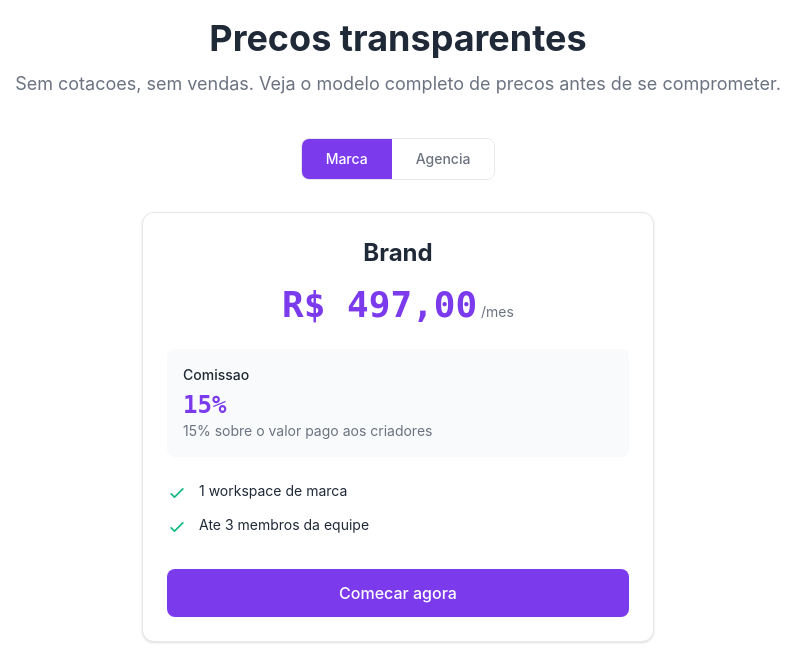
Test: PricingPage - US-02 Transparent Pricing › should show both workspace types with distinct pricing when toggled
Expected: the heading "Precos transparentes" is shown, [209,16,587,60]
Expected: the text "R$ 497,00" is shown, [282,284,477,325]
Toggle to agency
Click the tab "Agencia". click: (443, 159)
box: [392,139,494,179]
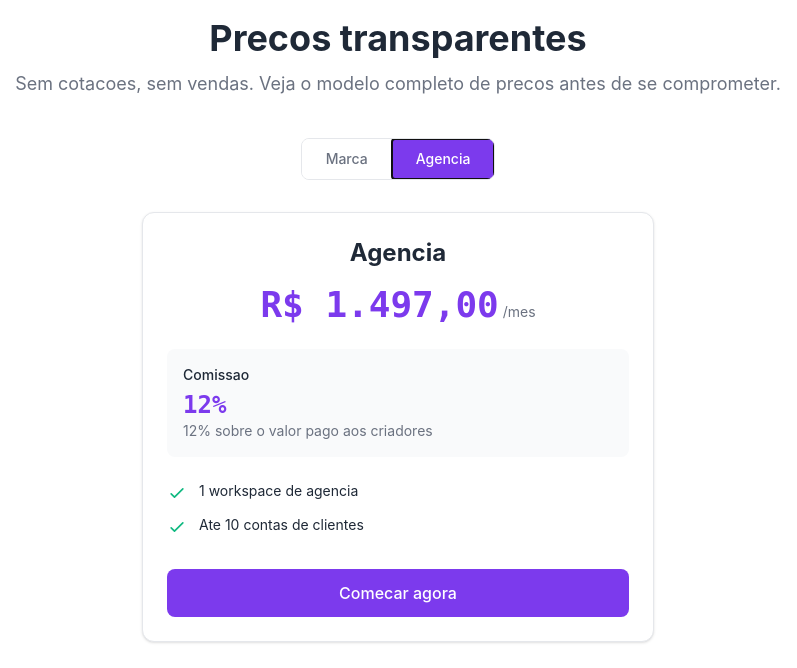
Expected: the text "R$ 1.497,00" is shown, [260,284,499,325]
Expected: the text "12%" is shown, [183,391,226,419]
